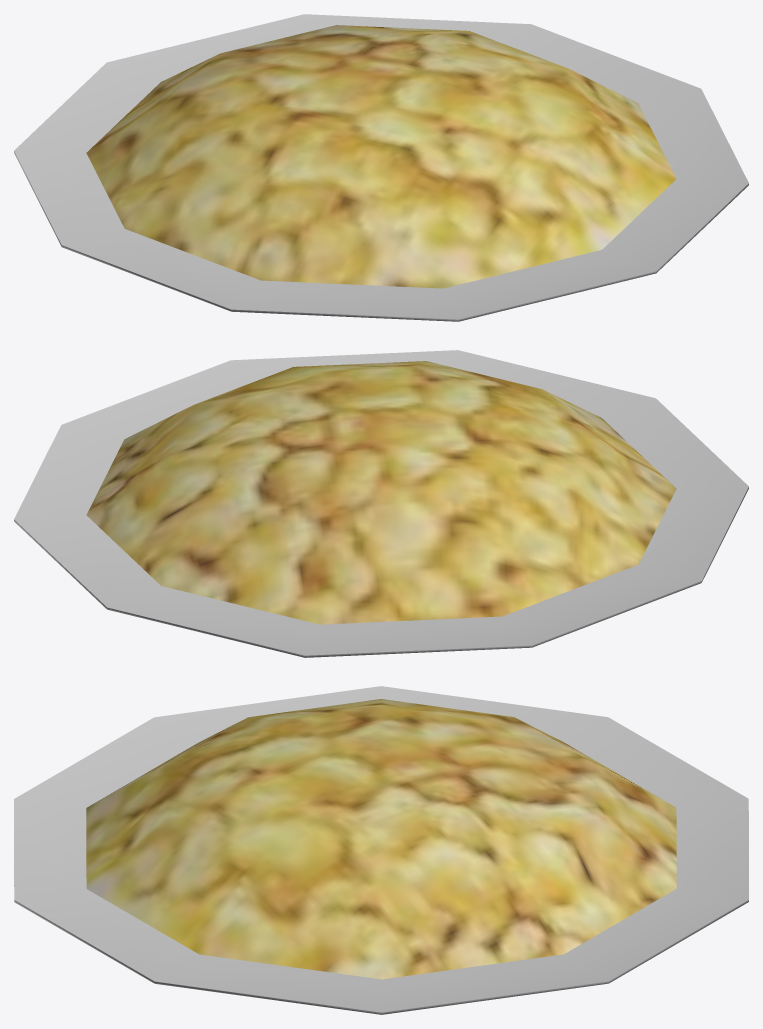
File: prop_foodmenu06.fbx
3 renders of one model, top to bottom at view 1: azimuth 30°, elevation 25°; view 2: azimuth 150°, elevation 25°; view 3: azimuth 270°, elevation 25°, orthographic. The views are drawn at different scales.
Parts seen in each view (by area): view 1: prop_foodmenu06; view 2: prop_foodmenu06; view 3: prop_foodmenu06.
Part boxes in pixels (left/top/right/bottom): prop_foodmenu06: left=14, top=14, right=748, bottom=321; prop_foodmenu06: left=14, top=350, right=748, bottom=657; prop_foodmenu06: left=14, top=686, right=748, bottom=1014.
Bounding box in the file's own units: 0.1649 × 0.0283 × 0.1569.
